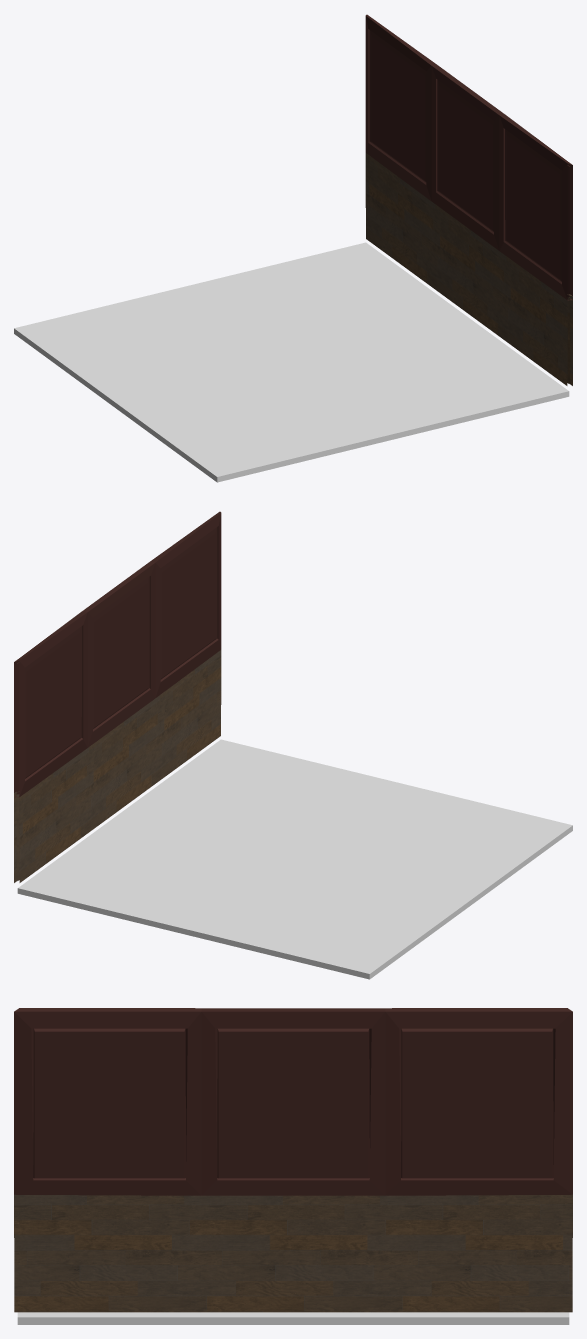
File: salle_mur.fbx
The picture shows the model from 3 angles, top to bottom: view 1: azimuth 30°, elevation 25°; view 2: azimuth 150°, elevation 25°; view 3: azimuth 270°, elevation 25°; orthographic projection. The views are drawn at different scales.
Parts seen in each view (by area): view 1: Plan.001, Plan.003; view 2: Plan.001, Plan.003; view 3: Plan.003, Plan.001.
Boxes of the visible parts, x1=… form: Plan.001: x1=14, y1=242, x2=569, y2=482; Plan.003: x1=365, y1=14, x2=572, y2=385; Plan.001: x1=17, y1=739, x2=572, y2=979; Plan.003: x1=14, y1=511, x2=221, y2=882; Plan.003: x1=14, y1=1008, x2=572, y2=1312; Plan.001: x1=17, y1=1312, x2=569, y2=1324.
Bounding box in the file's own units: 1538 × 959 × 1536.
Materials: 3 (1 with a texture image).
